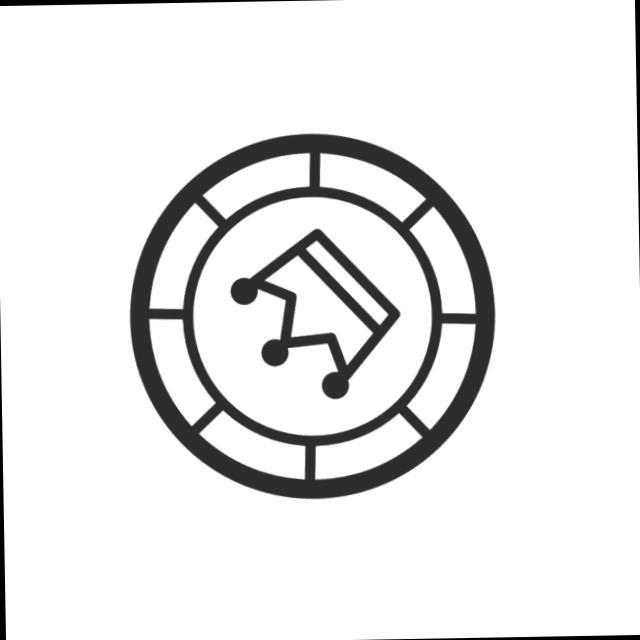coin: (119, 124, 507, 512)
